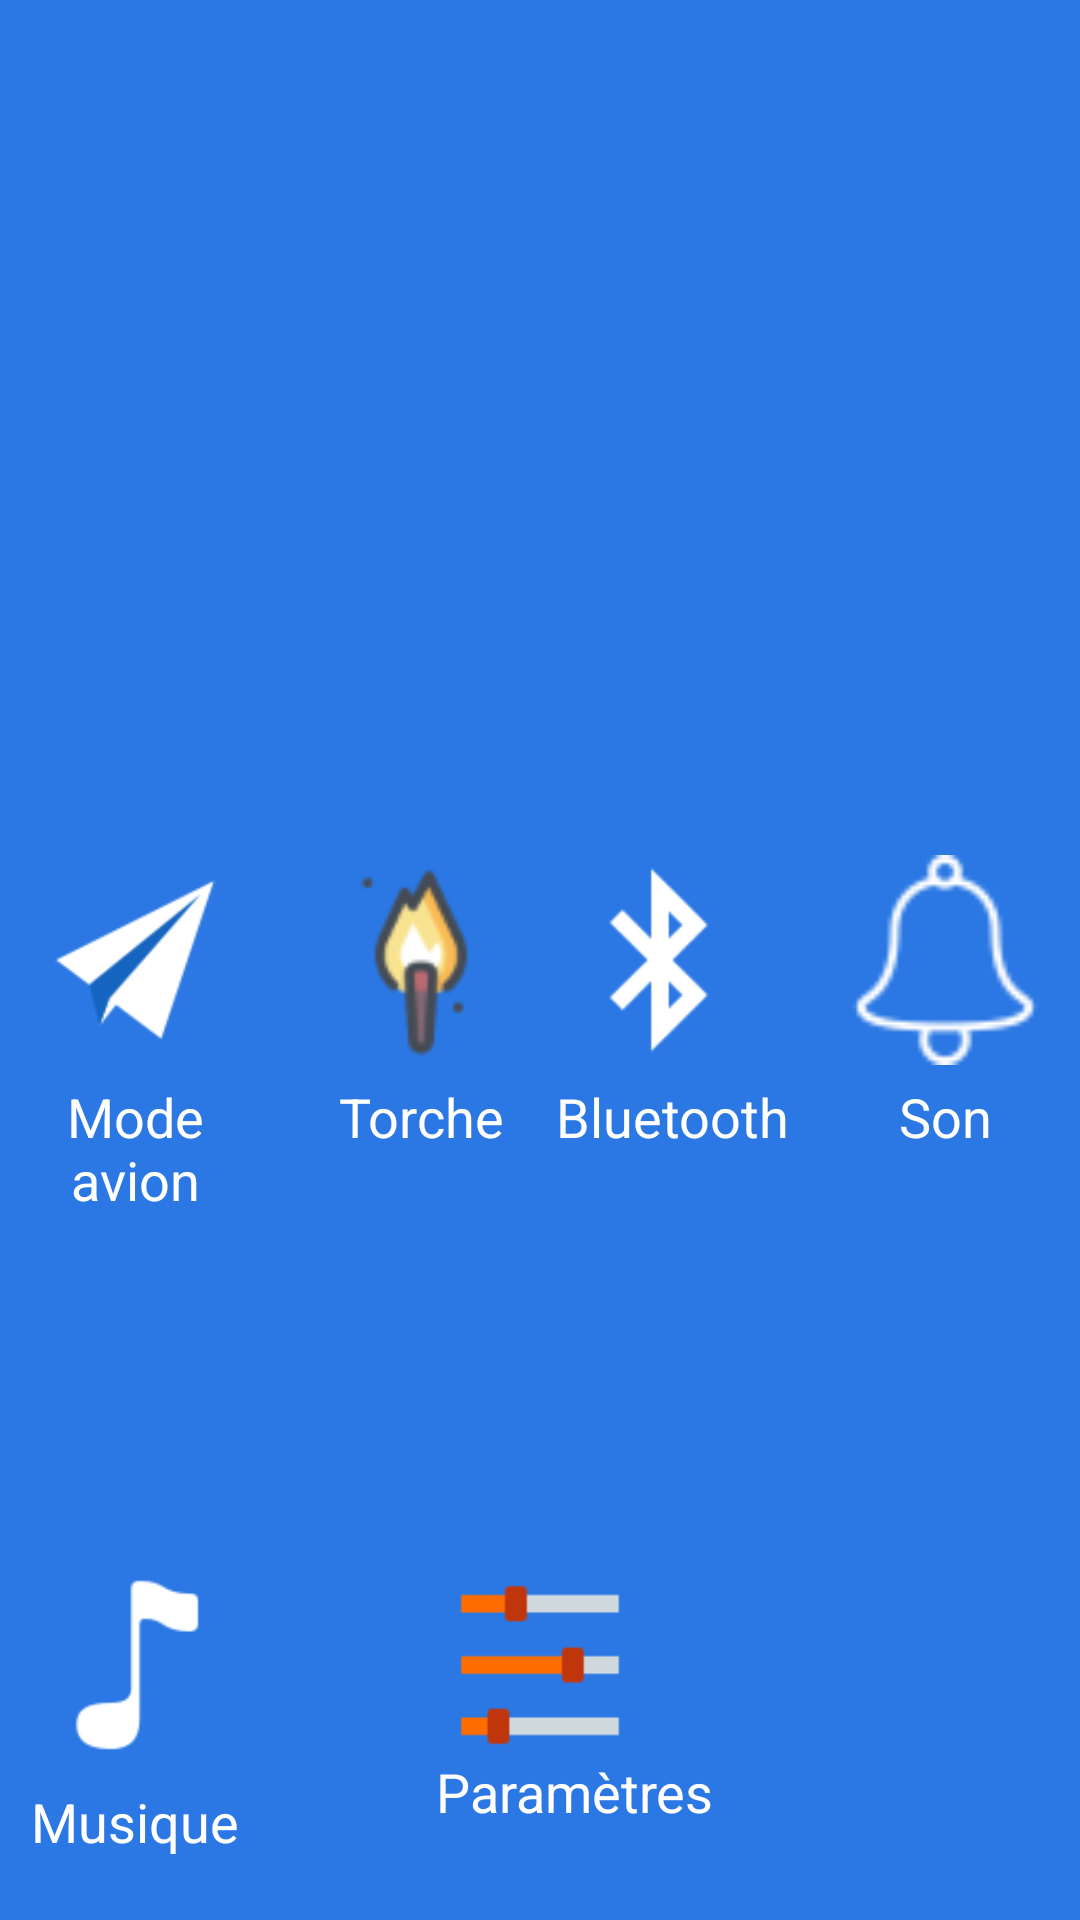

Locate icon controls on the screen. Image size 1080px x 1920px, boxes as (x1, y1, x2, y2).
bell: (855, 855, 1035, 1065)
planeoff: (56, 881, 214, 1039)
